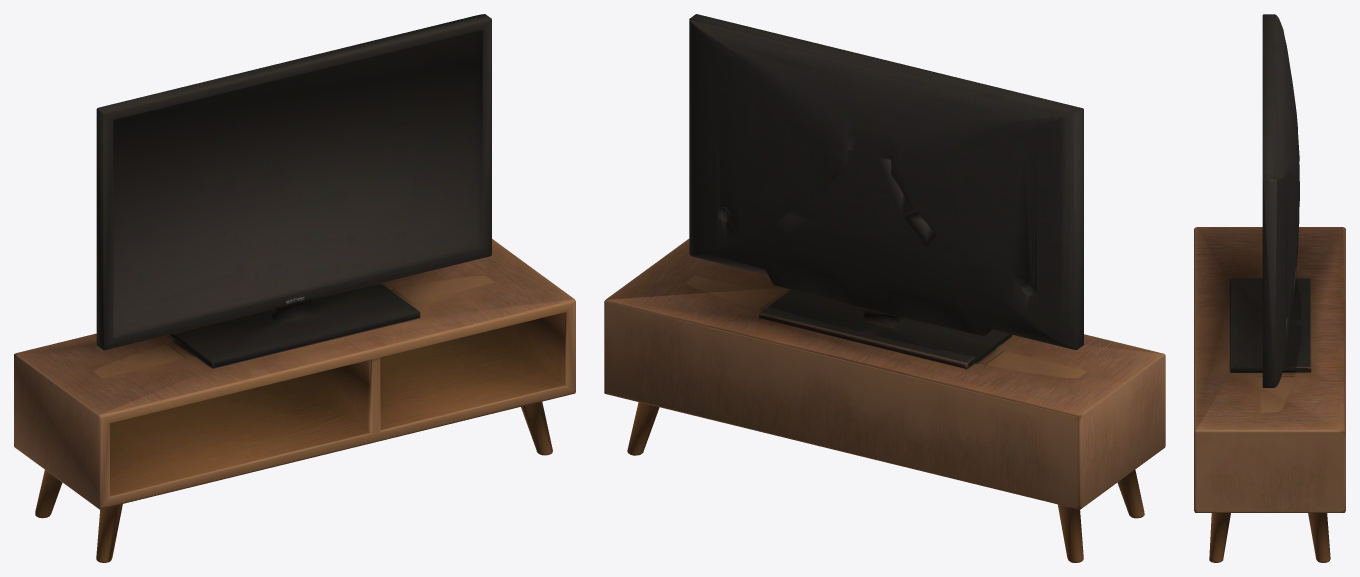
File: Furniture__television_stand_realistic_style_7e1ae602_v1.cluster.glb
3 views of the same model, side by side, from view 1: azimuth 30°, elevation 25°; view 2: azimuth 150°, elevation 25°; view 3: azimuth 270°, elevation 25° (orthographic). The views are drawn at different scales.
Parts seen in each view (by area): view 1: mesh_input; view 2: mesh_input; view 3: mesh_input.
Boxes of the visible parts, x1,y1,x2,y2 form: mesh_input: [14, 14, 575, 562]; mesh_input: [604, 14, 1165, 562]; mesh_input: [1194, 14, 1345, 562].
Bounding box in the file's own units: 1.9 × 1.6 × 0.5977.
1 material, 1 textured.
